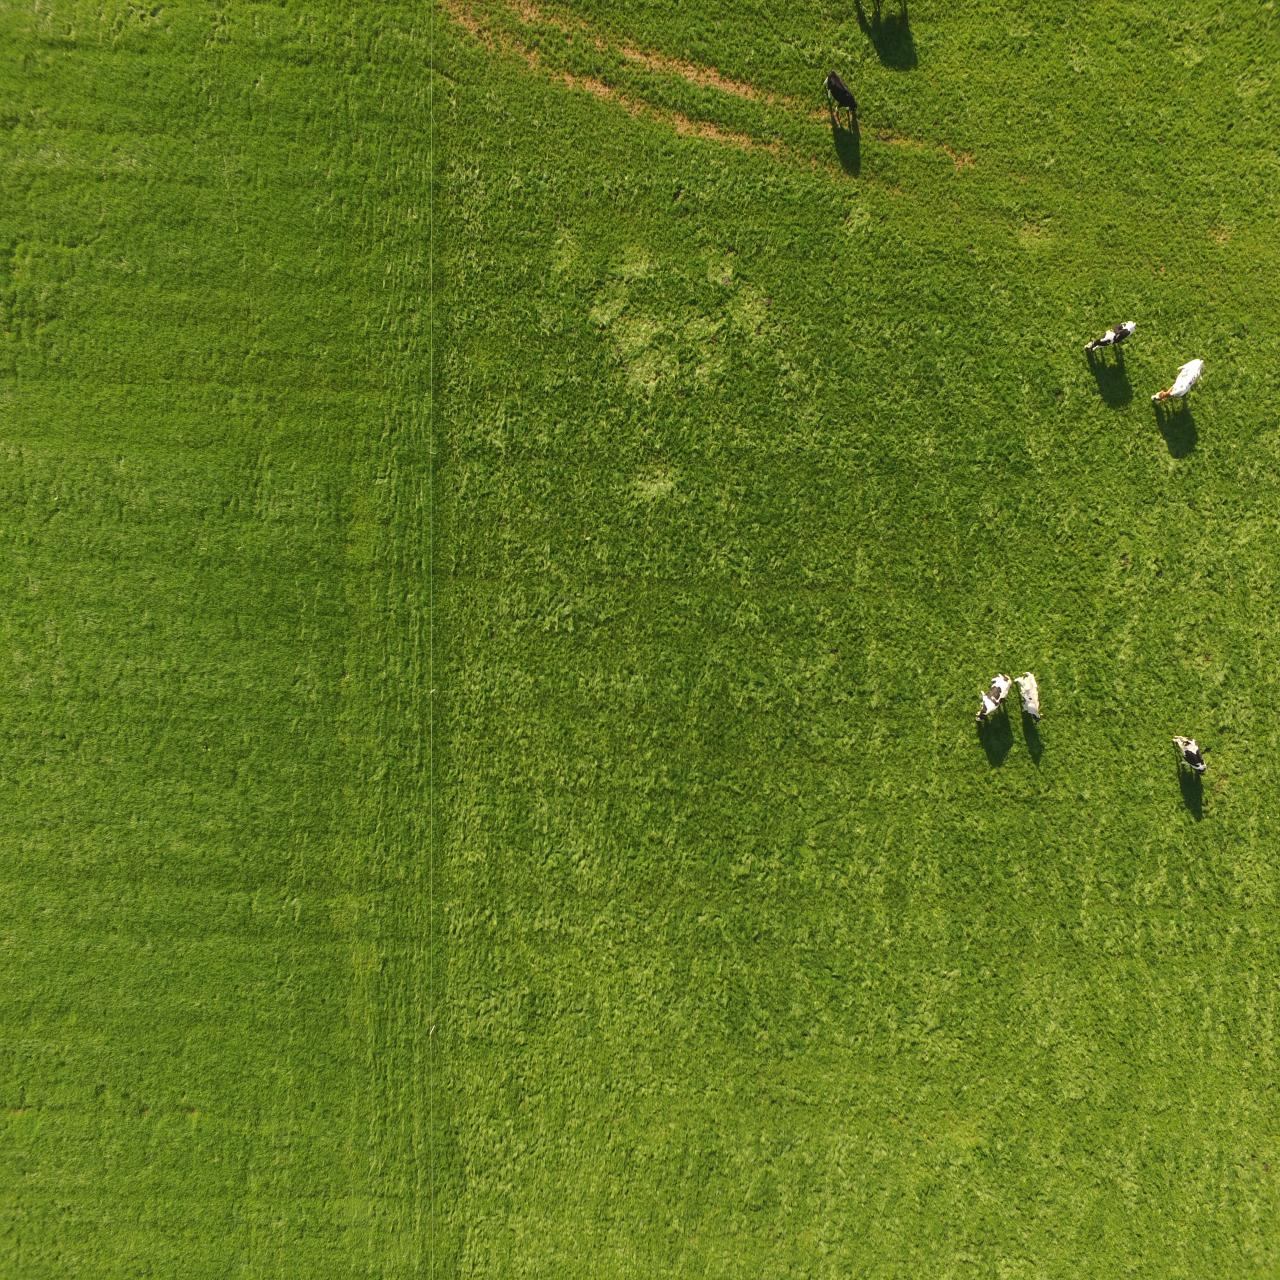cow: (1149, 352, 1208, 416), (812, 67, 869, 125), (971, 663, 1014, 735), (1077, 319, 1141, 361), (1009, 660, 1047, 726), (1170, 730, 1212, 781)
